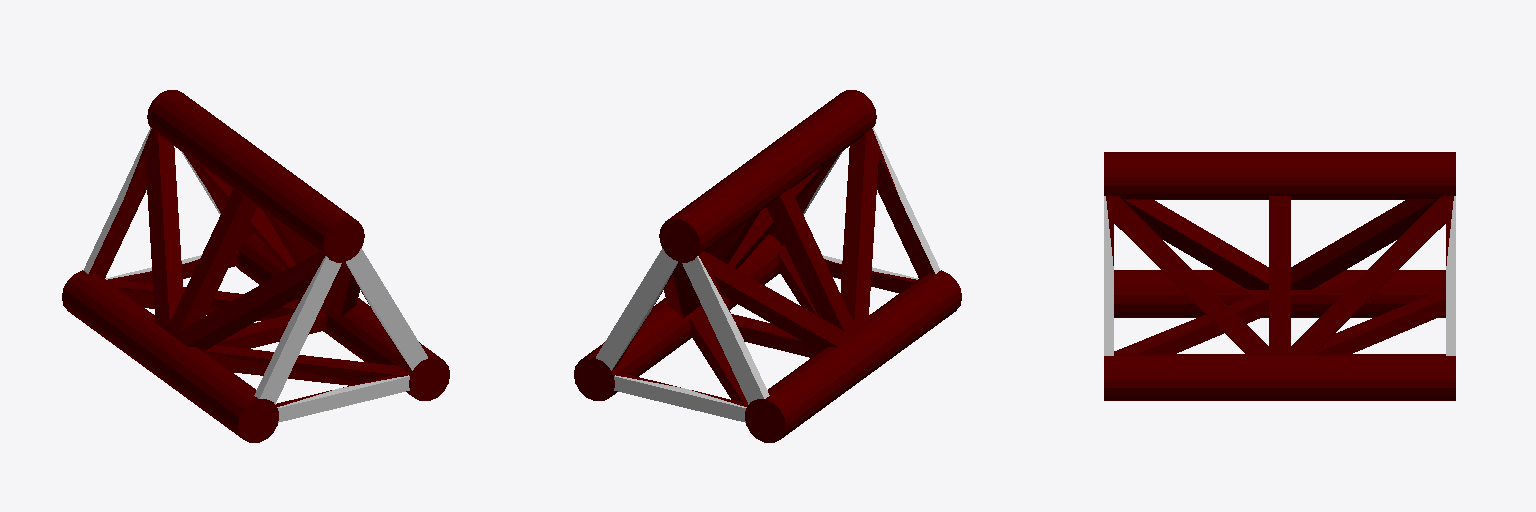
File: intamin_invert.obj
3 renders of one model, left to right at view 1: azimuth 30°, elevation 25°; view 2: azimuth 150°, elevation 25°; view 3: azimuth 270°, elevation 25°, orthographic.
Bounding box in the file's own units: 1.15 × 1.05 × 1.65.